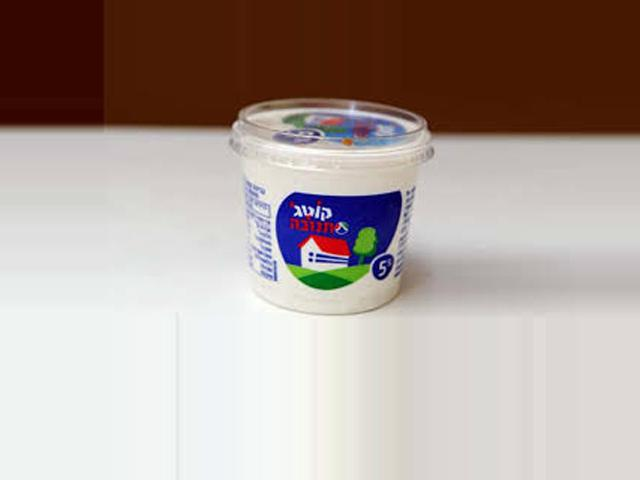cotage: (222, 98, 430, 313)
